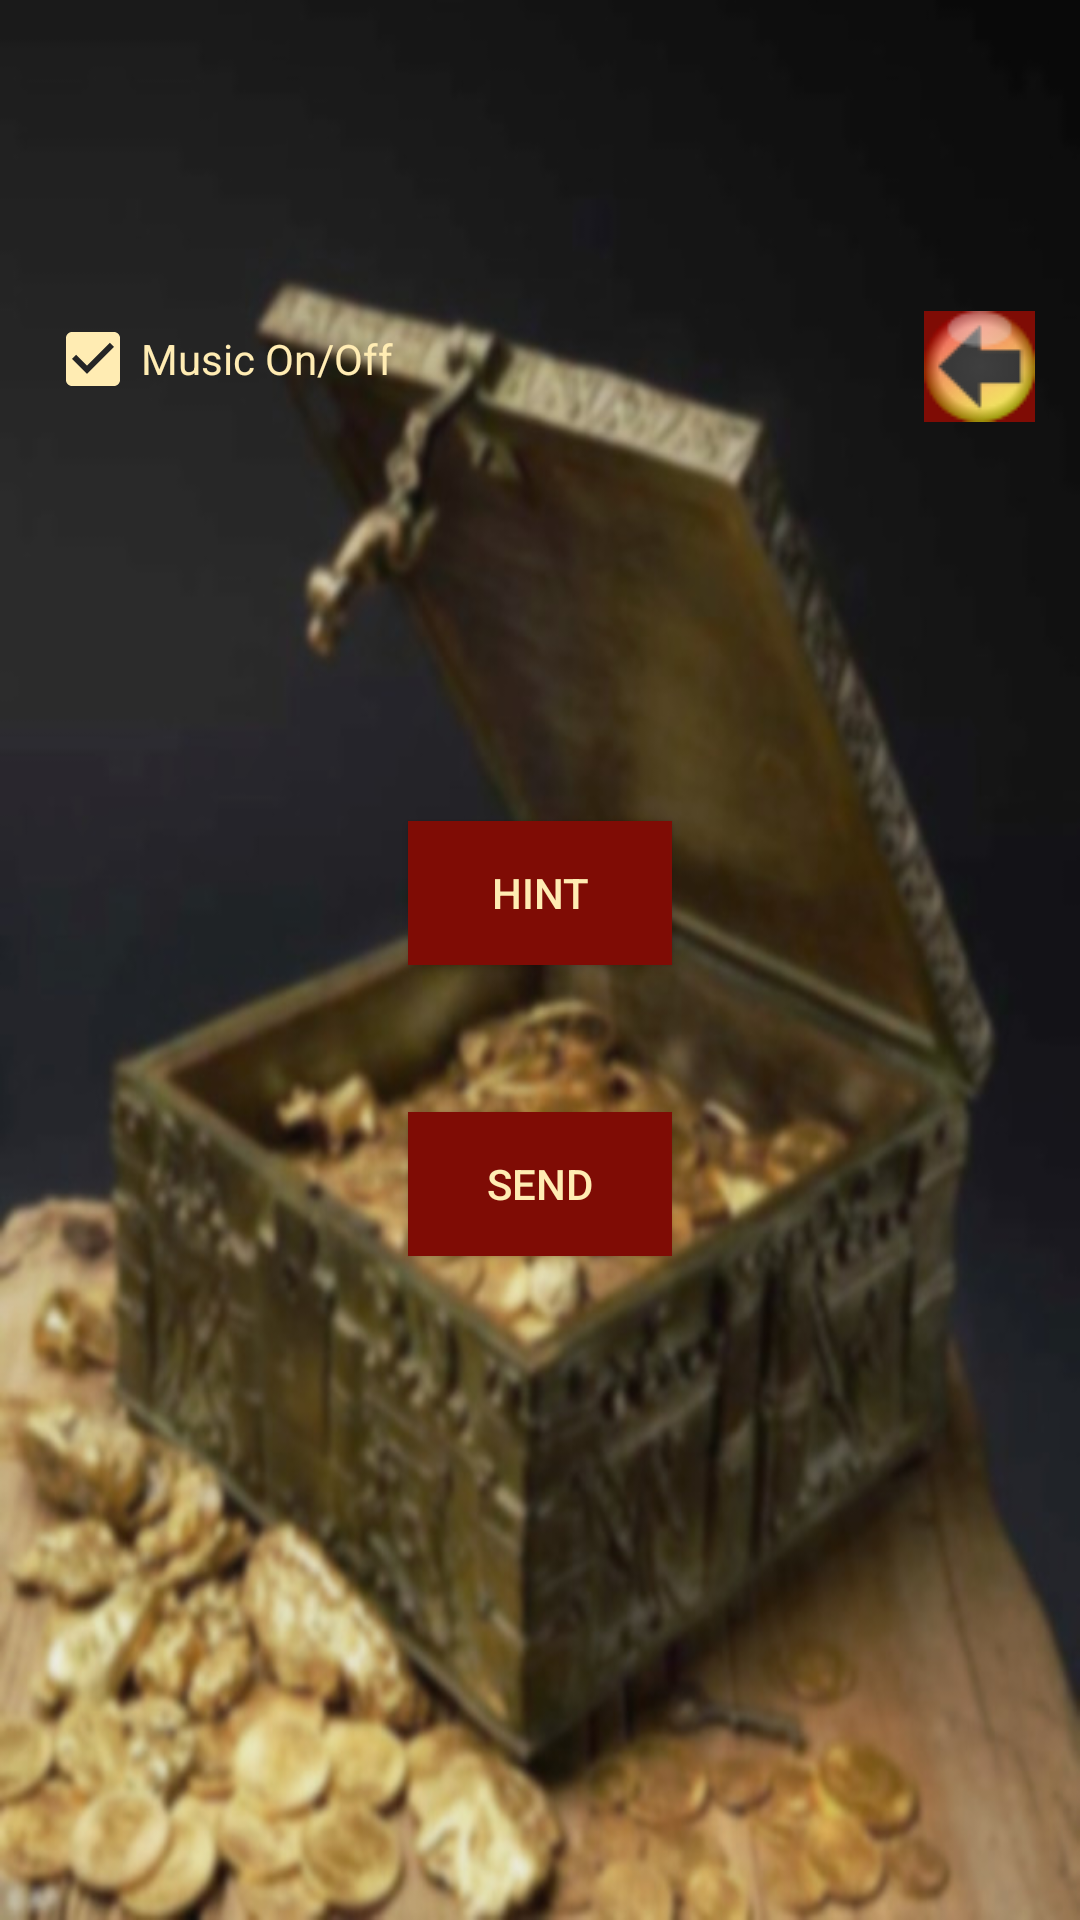

Screen size 1080px x 1920px. Icon name, then its box in pixels as [left=x1, top=y1, right=x2, bottom=y2]:
back: [left=924, top=311, right=1035, bottom=422]
